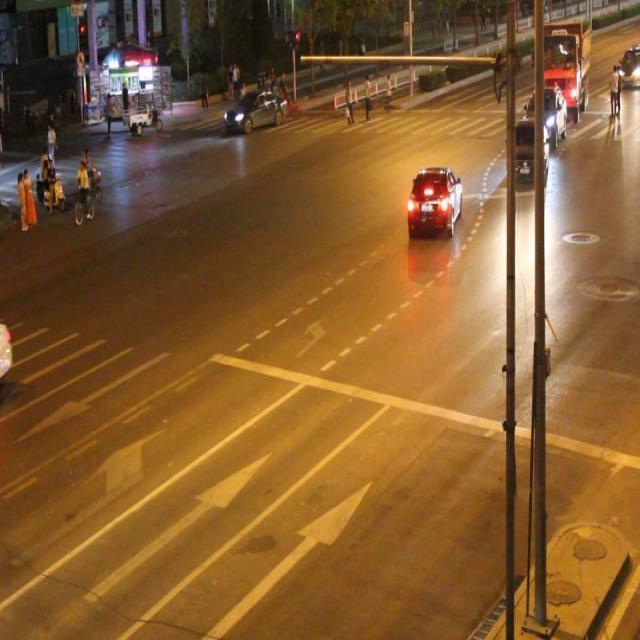BigCar: (535, 2, 593, 119)
car: (217, 82, 297, 146), (405, 162, 464, 246), (503, 101, 553, 198), (533, 70, 573, 145), (0, 307, 16, 399), (619, 34, 640, 94)
